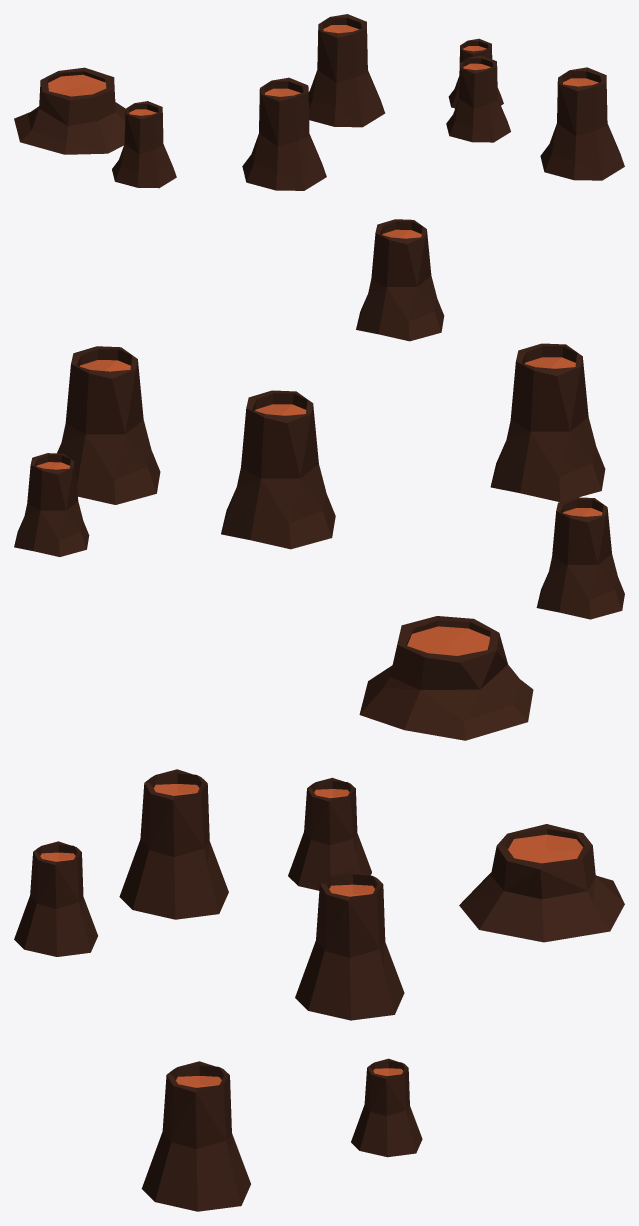
Rendered from grupo arboles cortados.FBX.
3 views of the same model, one above another, from view 1: azimuth 30°, elevation 25°; view 2: azimuth 150°, elevation 25°; view 3: azimuth 270°, elevation 25° (orthographic). The views are drawn at different scales.
Visible parts, largest first — view 1: tronco003, tronco005, tronco, tronco001, tronco002, tronco004, tronco006; view 2: tronco003, tronco001, tronco, tronco005, tronco002, tronco004, tronco006; view 3: tronco003, tronco001, tronco005, tronco, tronco002, tronco004, tronco006.
Boxes of the visible parts, x1=… form: tronco003: x1=14, y1=67, x2=125, y2=154; tronco005: x1=540, y1=67, x2=624, y2=180; tronco: x1=242, y1=77, x2=326, y2=190; tronco001: x1=308, y1=14, x2=385, y2=127; tronco002: x1=446, y1=55, x2=510, y2=142; tronco004: x1=112, y1=101, x2=176, y2=188; tronco006: x1=448, y1=38, x2=503, y2=108; tronco003: x1=359, y1=616, x2=533, y2=740; tronco001: x1=221, y1=390, x2=335, y2=549; tronco: x1=490, y1=343, x2=605, y2=501; tronco005: x1=57, y1=346, x2=160, y2=504; tronco002: x1=356, y1=219, x2=444, y2=341; tronco004: x1=536, y1=497, x2=624, y2=619; tronco006: x1=14, y1=453, x2=89, y2=556; tronco003: x1=459, y1=824, x2=624, y2=942; tronco001: x1=295, y1=870, x2=404, y2=1020; tronco005: x1=141, y1=1061, x2=250, y2=1211; tronco: x1=119, y1=769, x2=228, y2=919; tronco002: x1=14, y1=841, x2=97, y2=956; tronco004: x1=288, y1=777, x2=371, y2=890; tronco006: x1=351, y1=1058, x2=422, y2=1157.
Size of the model in its own units: 120 by 43.47 by 102.
